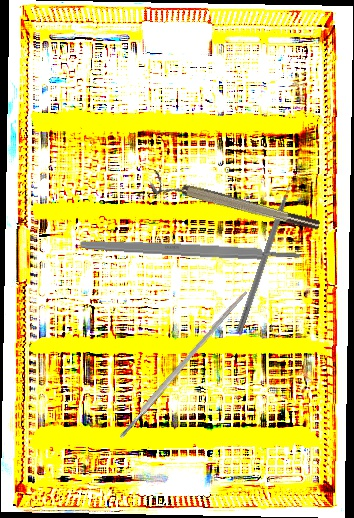Chopper: (235, 171, 306, 338)
Fixation Ring: (147, 169, 322, 241)
Scalpel Handle: (116, 288, 250, 440), (79, 238, 302, 263)
